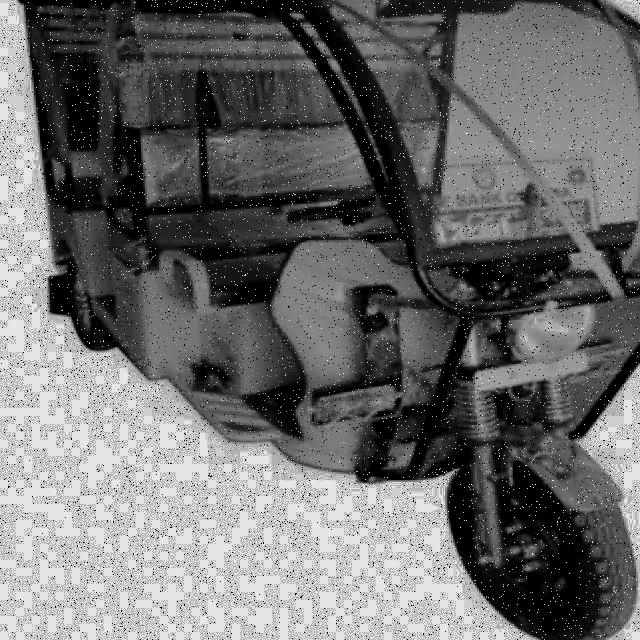Toto: (6, 0, 640, 634)
